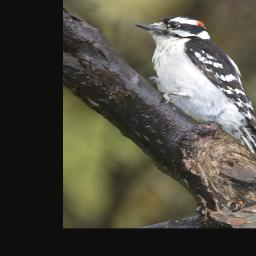Woodpecker: (133, 16, 256, 162)
